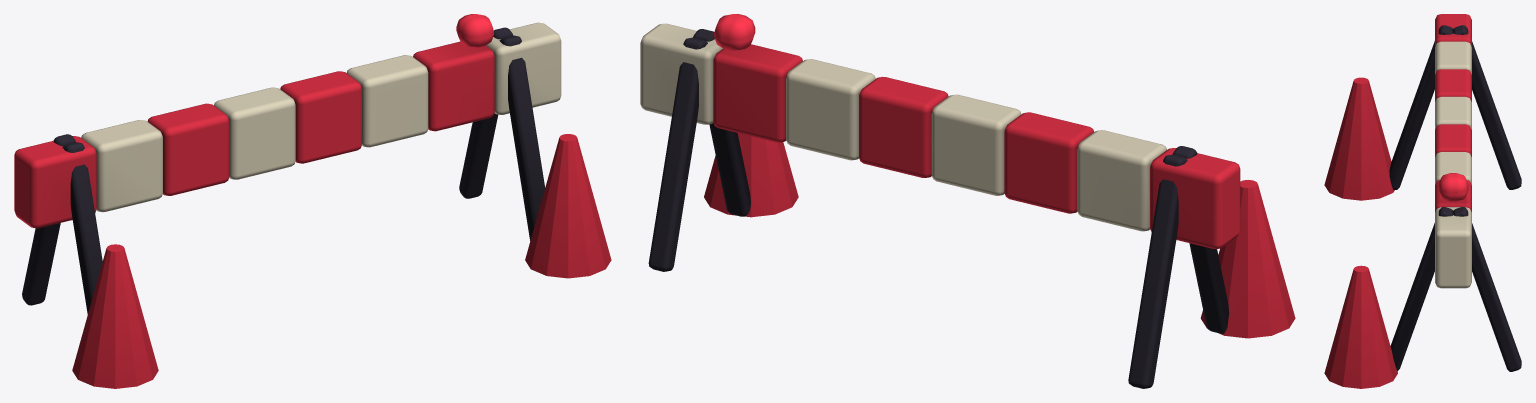
The model's file is roadblock.glb.
3 views of the same model, side by side, from view 1: azimuth 30°, elevation 25°; view 2: azimuth 150°, elevation 25°; view 3: azimuth 270°, elevation 25° (orthographic). The views are drawn at different scales.
Visible parts, largest first — view 1: body, lamp; view 2: body, lamp; view 3: body, lamp.
Boxes of the visible parts, x1,y1,x2,y2 form: body: [14, 22, 611, 388]; lamp: [456, 14, 493, 47]; body: [640, 23, 1295, 388]; lamp: [714, 14, 755, 50]; body: [1324, 14, 1521, 388]; lamp: [1438, 173, 1468, 201].
Bounding box in the file's own units: 3.4 × 1.31 × 1.28.
